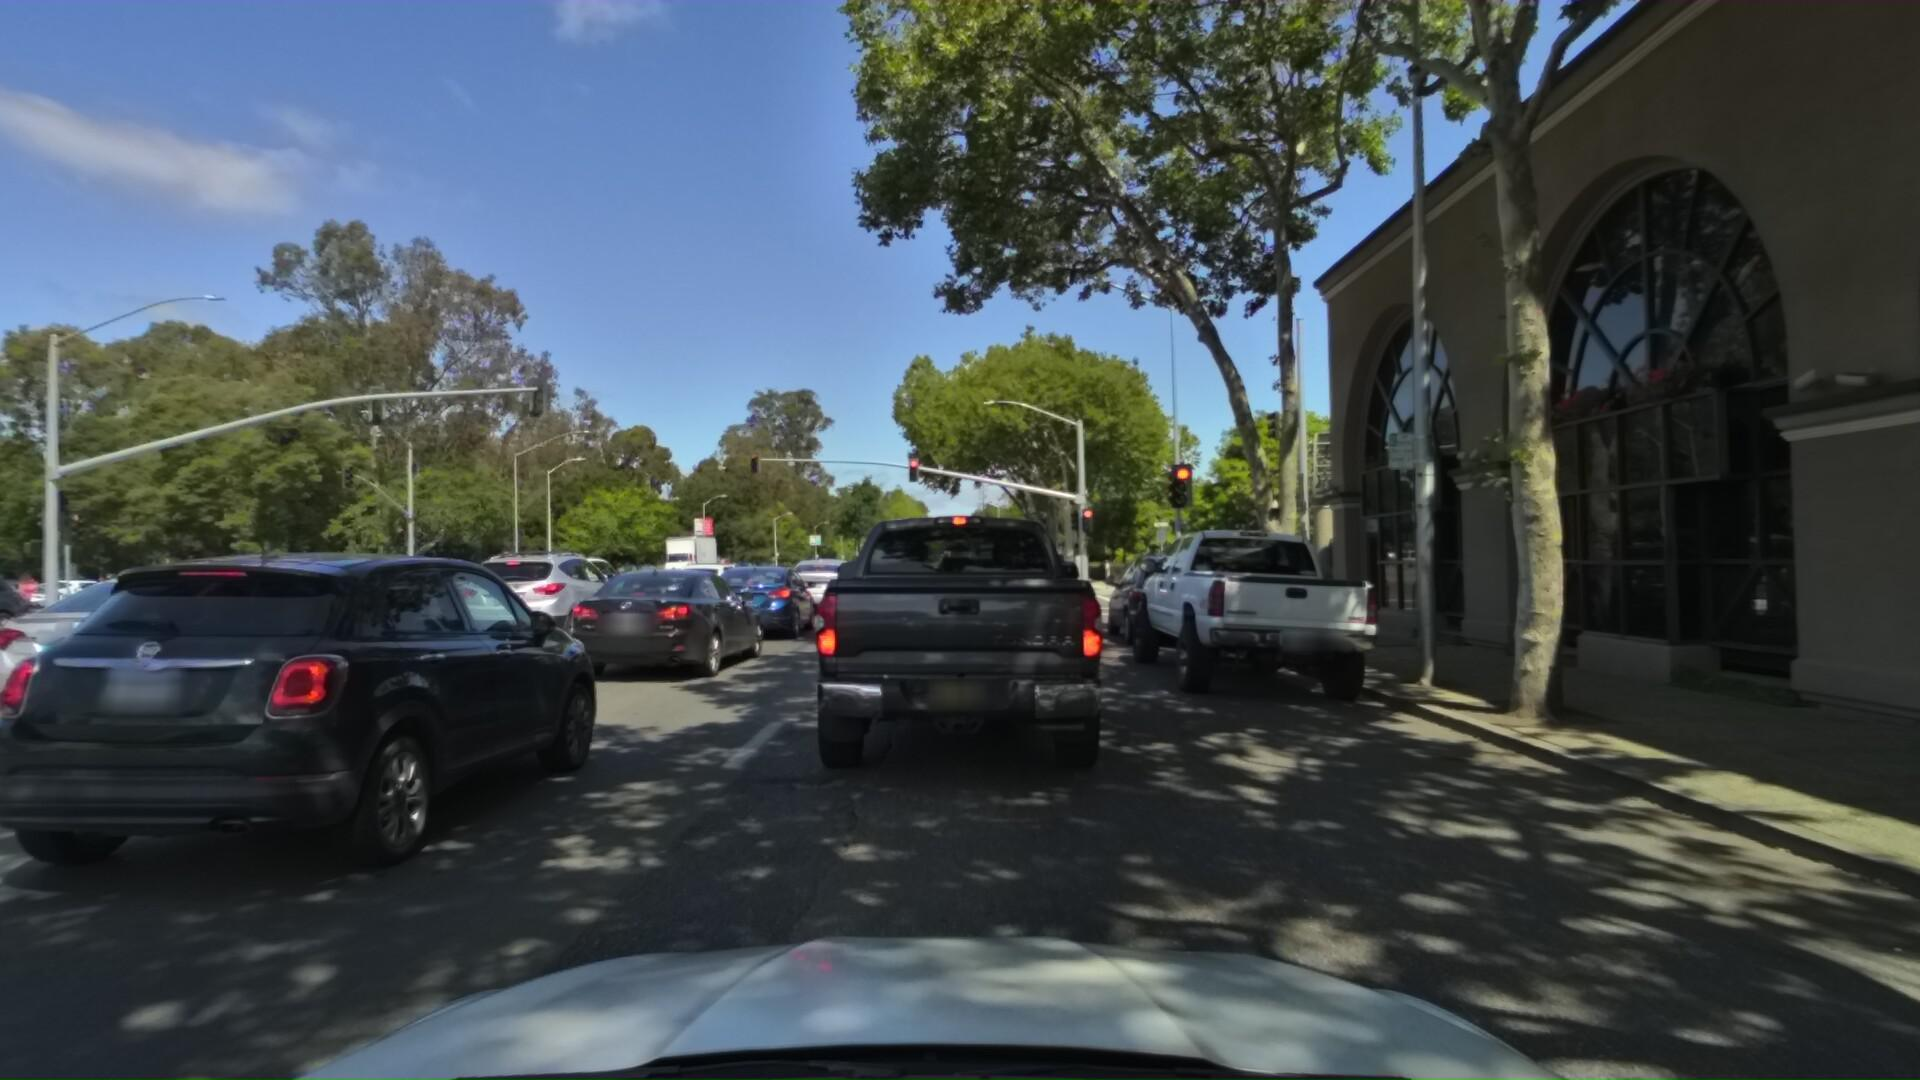car: (0, 520, 636, 945), (791, 444, 1139, 829), (0, 564, 415, 750), (1116, 512, 1400, 712), (551, 558, 774, 695), (456, 543, 628, 654), (945, 537, 1081, 673), (1091, 542, 1245, 651), (688, 558, 822, 650), (525, 541, 647, 608), (781, 553, 866, 622), (87, 566, 220, 605), (665, 553, 746, 609), (24, 560, 129, 599), (0, 567, 88, 609), (0, 571, 26, 659)
